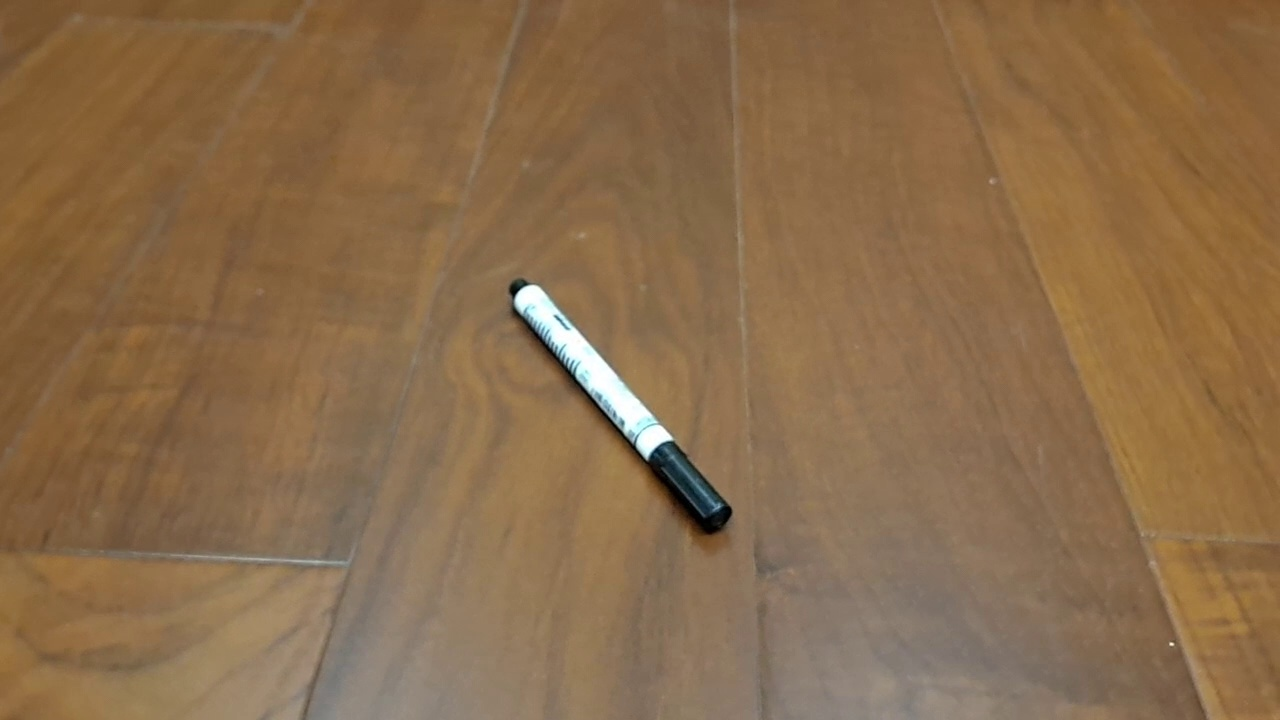pen: (508, 277, 733, 535)
